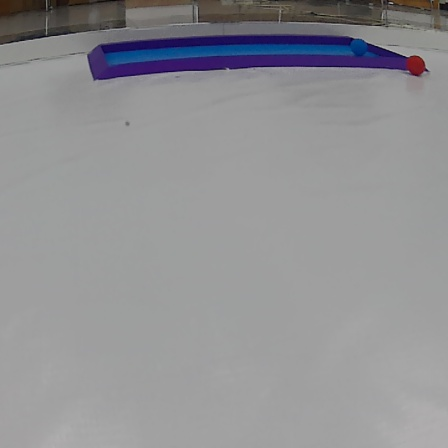blue: (350, 37, 369, 56)
blue_aim: (85, 37, 418, 74)
red: (408, 52, 427, 78)
